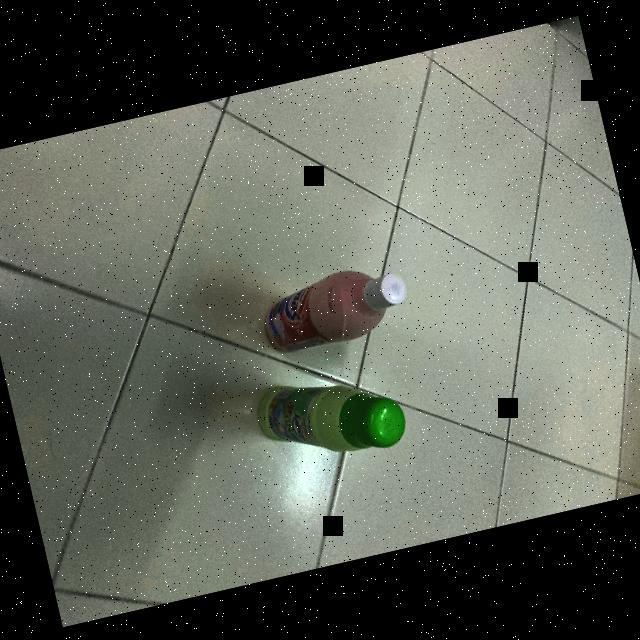chemical_plastic_bottle: (252, 251, 420, 367), (252, 358, 414, 476)
